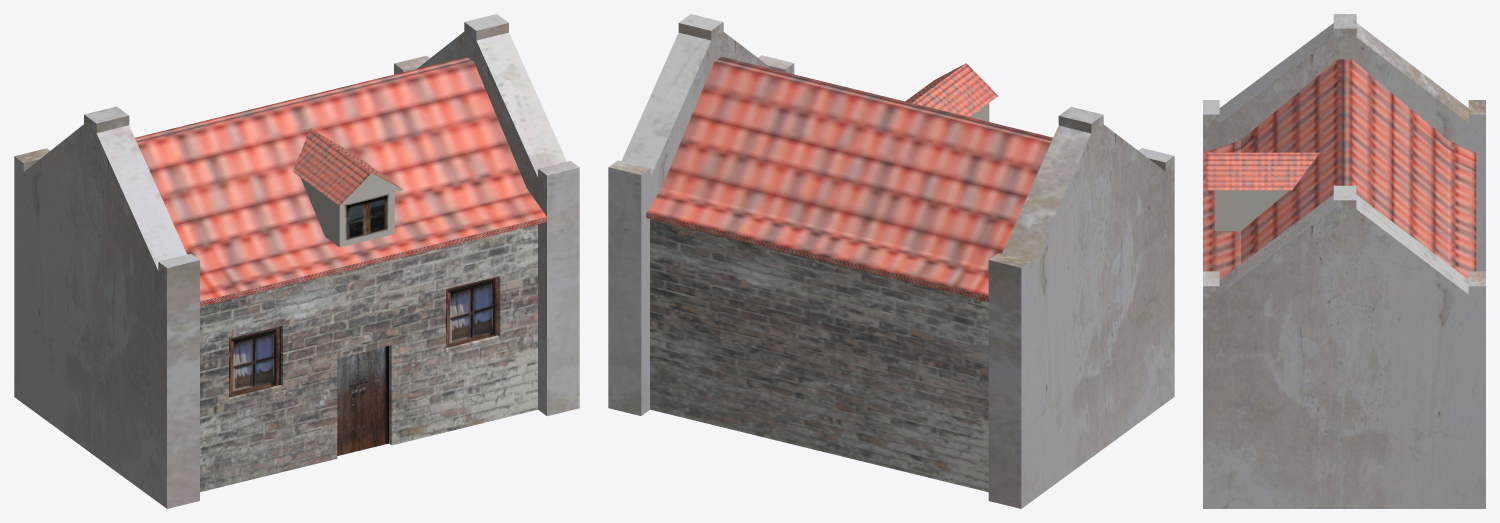
3 renders of one model, left to right at view 1: azimuth 30°, elevation 25°; view 2: azimuth 150°, elevation 25°; view 3: azimuth 270°, elevation 25°, orthographic. The views are drawn at different scales.
Parts seen in each view (by area): view 1: House1_pCube1; view 2: House1_pCube1; view 3: House1_pCube1.
Boxes of the visible parts, x1,y1,x2,y2 form: House1_pCube1: [14, 14, 579, 508]; House1_pCube1: [608, 14, 1174, 508]; House1_pCube1: [1203, 14, 1485, 508].
Size of the model in its own units: 353 by 272 by 226.
